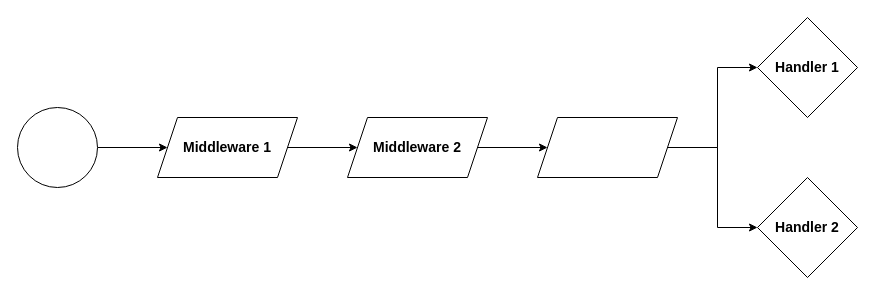
Some shapes in this 875 by 295 pixel diagram are drawn without their labels. Here are the shapes that lost their labels. From the top down, the centre of each, then its label:
At point (57, 147): "Logger".
At point (607, 147): "Middleware 3".
